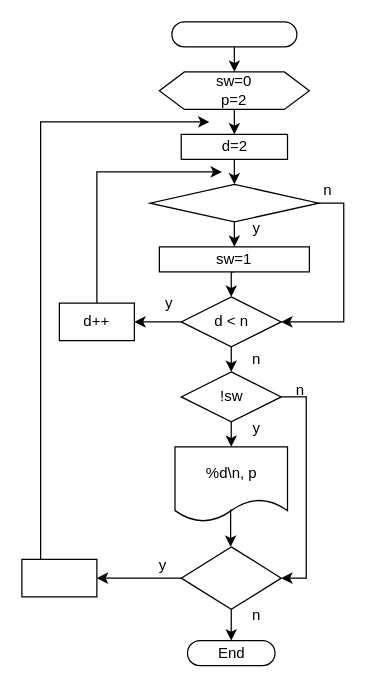
Image size: 376x688. Some labels were removed from this diagram. Here are the shapes that lost their labels. From the top down, the centre of each, then its label:
the point at 234,34: 솟수 구하기
the point at 234,202: p%div==0
the point at 59,577: p++
the point at 230,577: p<=100
